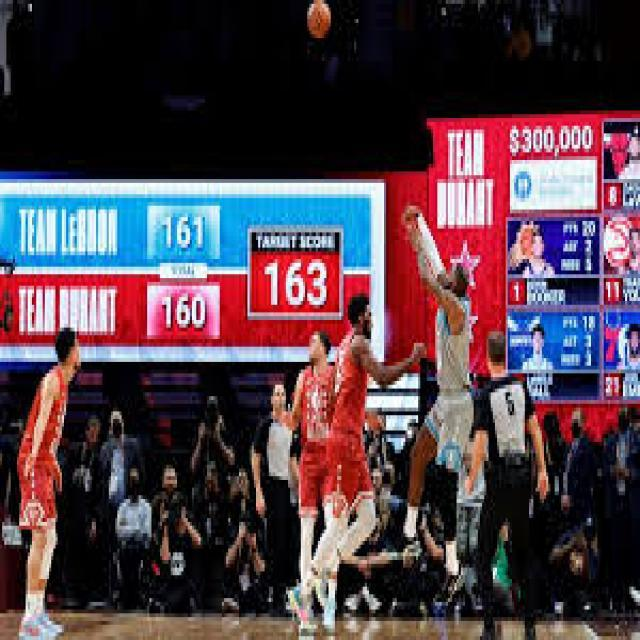rim: (308, 0, 330, 38)
